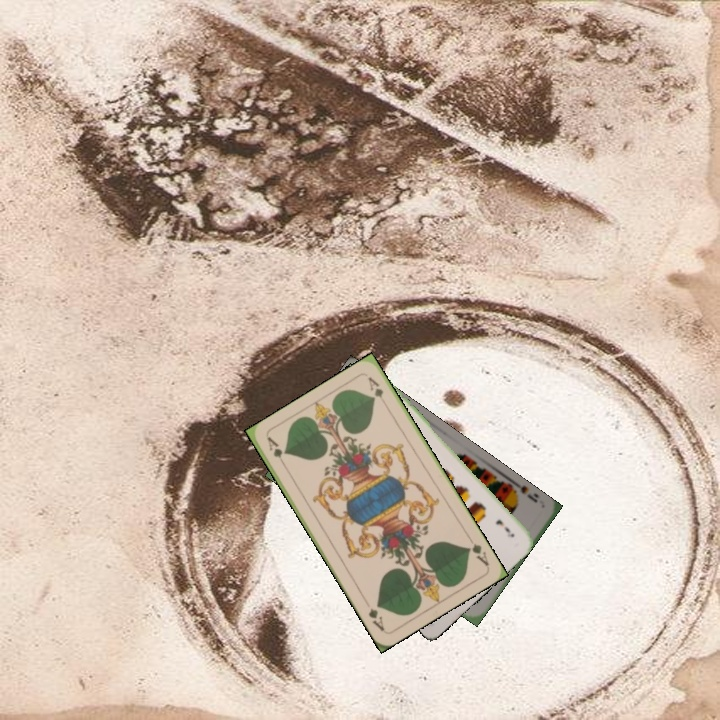E7: (492, 515, 517, 540)
GA: (462, 532, 491, 569), (263, 433, 289, 471)
S9: (505, 481, 541, 505)
